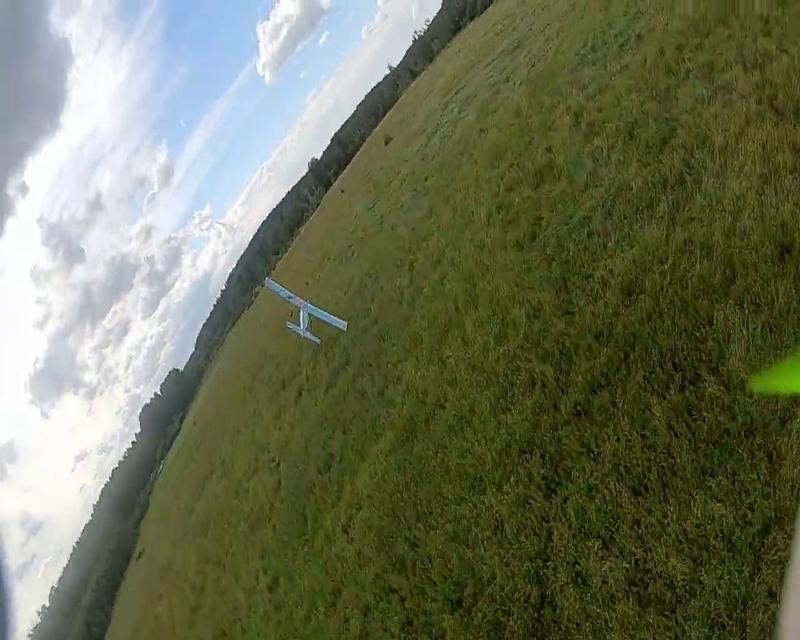UAV: (265, 277, 349, 346)
